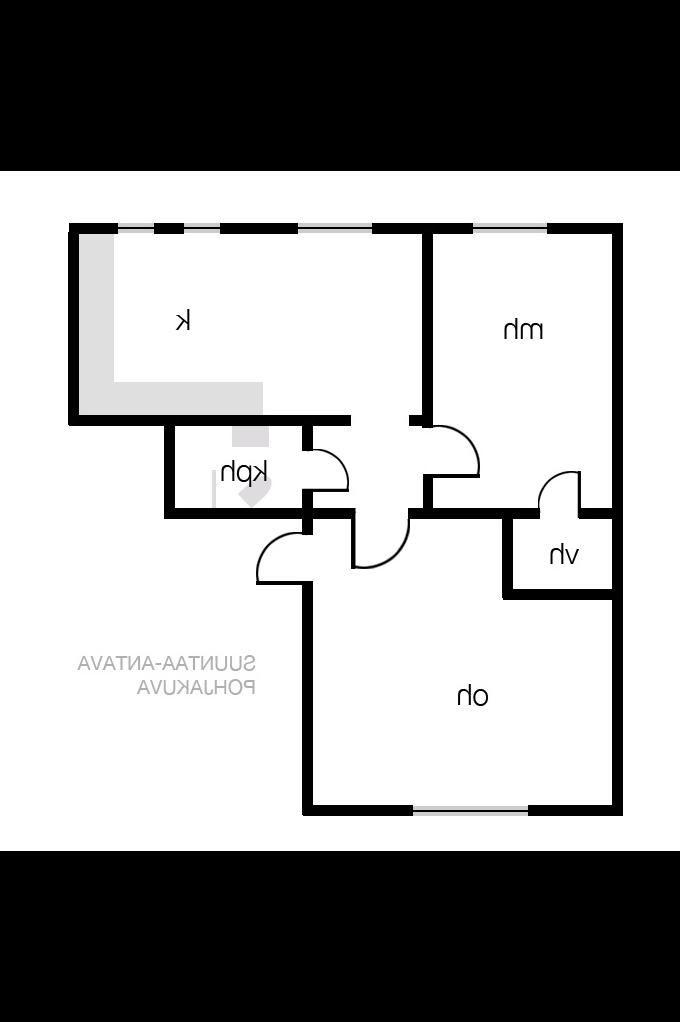door: (351, 506, 412, 578), (252, 528, 314, 589), (428, 424, 482, 482), (532, 468, 586, 522), (298, 448, 351, 496)
perimeter: (62, 220, 622, 820)
window: (400, 802, 542, 820), (462, 215, 556, 241), (286, 216, 380, 240), (172, 217, 229, 238), (103, 216, 164, 234)
